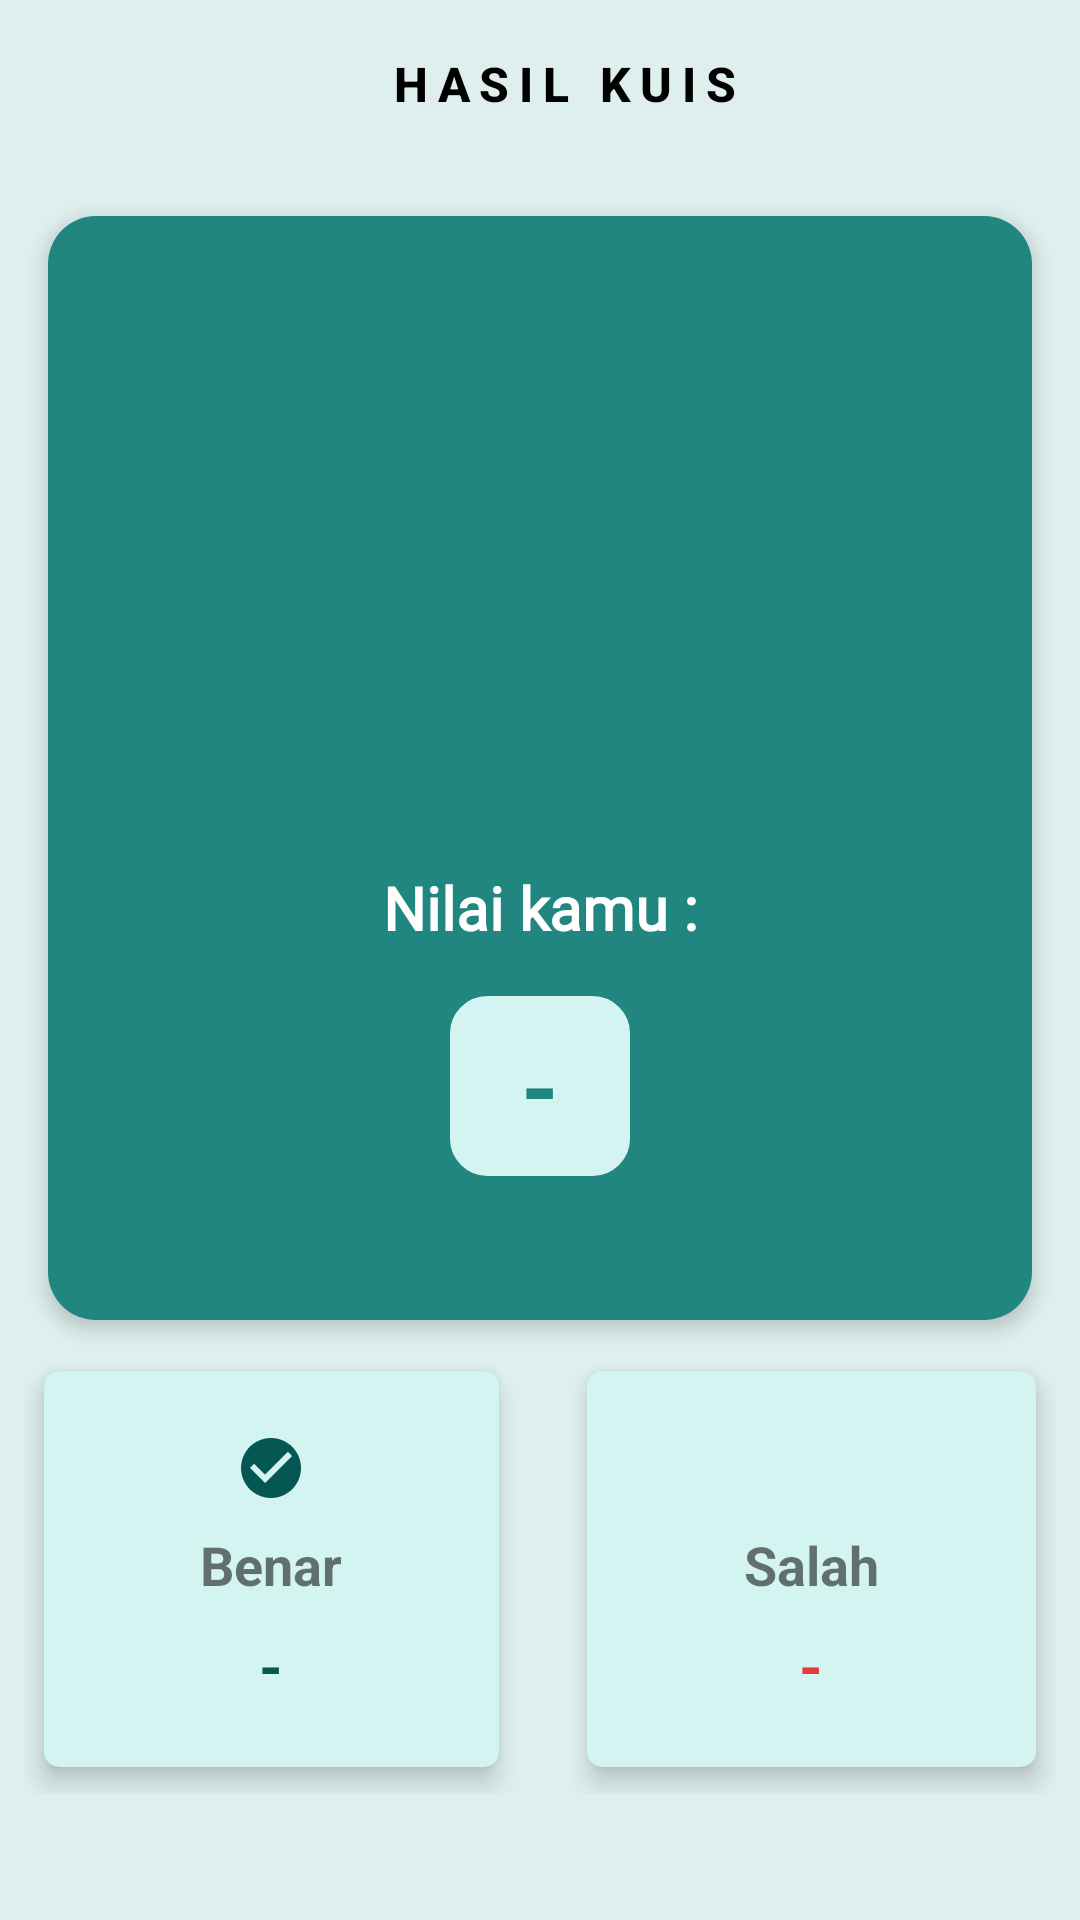

Screen size 1080w x 1920h. Icon name, then its box in pixels as {"x1": x1, "y1": y1, "x2": x2, "y2": y2}:
check circle: {"x1": 241, "y1": 1438, "x2": 301, "y2": 1498}
